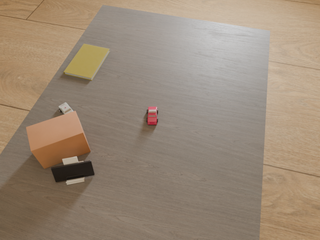book: (64, 44, 110, 80)
box: (26, 111, 90, 169)
phone: (51, 161, 94, 182)
toy_car: (147, 107, 158, 124), (59, 103, 74, 114)
